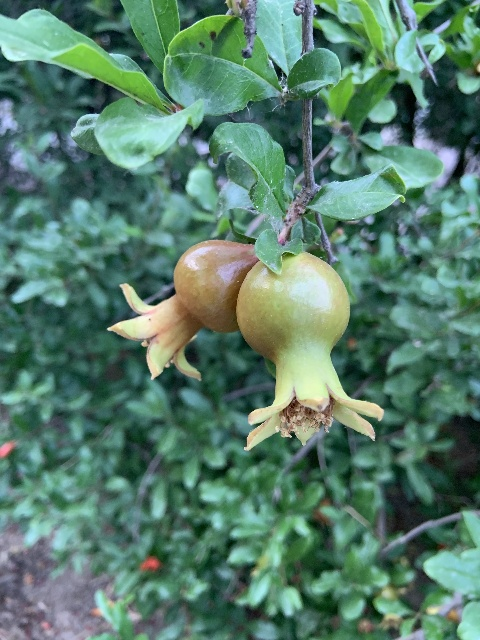early-fruit: (107, 238, 259, 383)
mid-growth: (236, 250, 383, 450)
